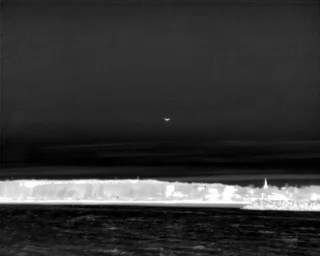BIRD: (163, 115, 172, 124)
